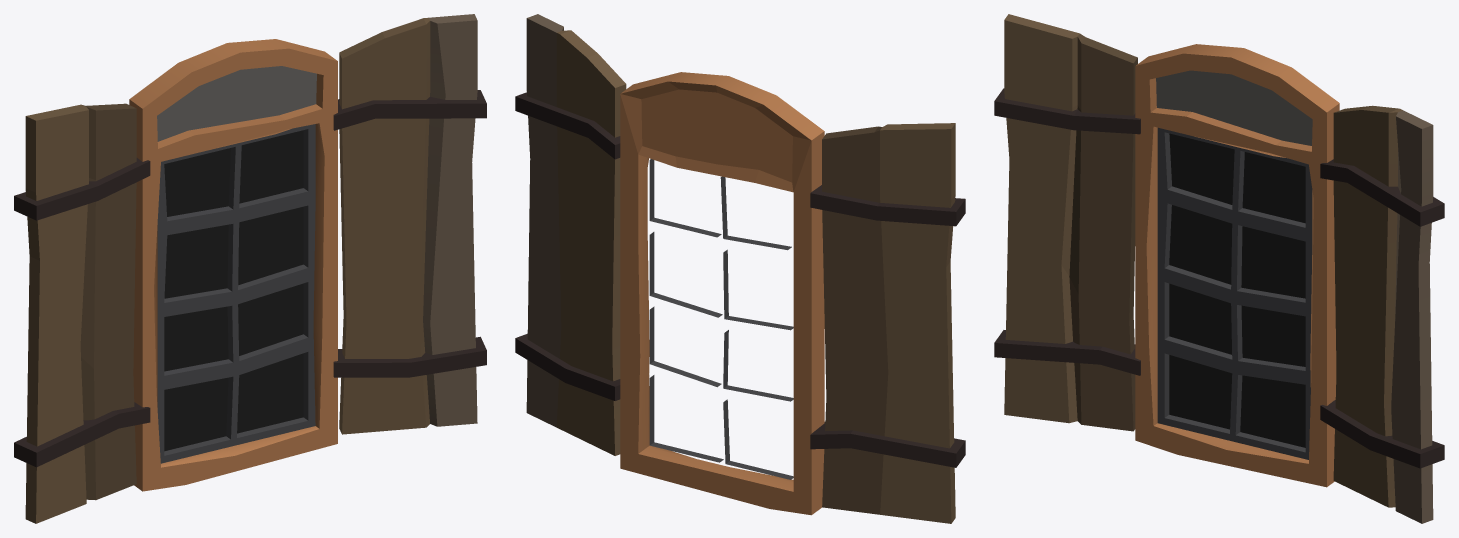
The model's file is SM_Prop_Window_03.glb.
3 views of the same model, side by side, from view 1: azimuth 30°, elevation 25°; view 2: azimuth 150°, elevation 25°; view 3: azimuth 330°, elevation 25° (orthographic). The views are drawn at different scales.
Parts seen in each view (by area): view 1: SM_Prop_Window_03; view 2: SM_Prop_Window_03; view 3: SM_Prop_Window_03.
Boxes of the visible parts, <box> form: SM_Prop_Window_03: <box>14,14,486,523</box>; SM_Prop_Window_03: <box>515,14,965,523</box>; SM_Prop_Window_03: <box>994,14,1444,523</box>.
Size of the model in its own units: 0.0192 by 0.0168 by 0.00301.
